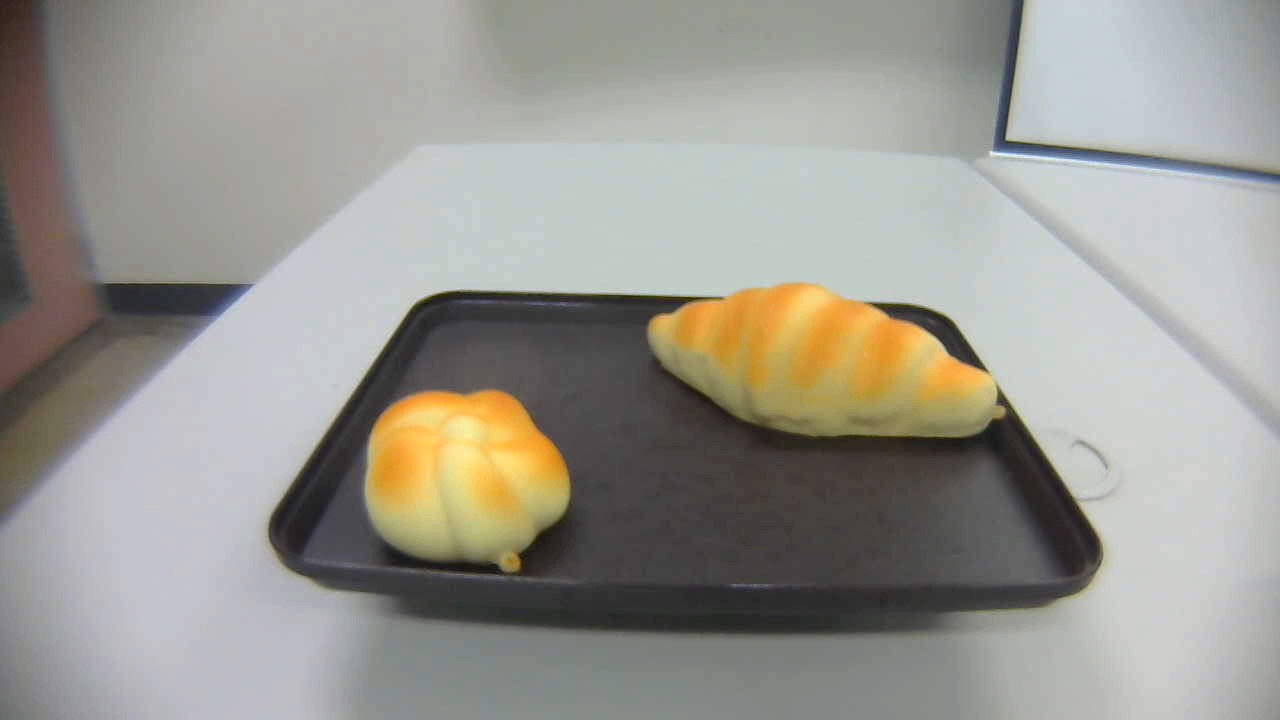croissant: (639, 280, 1009, 441)
twist bread: (363, 391, 571, 575)
